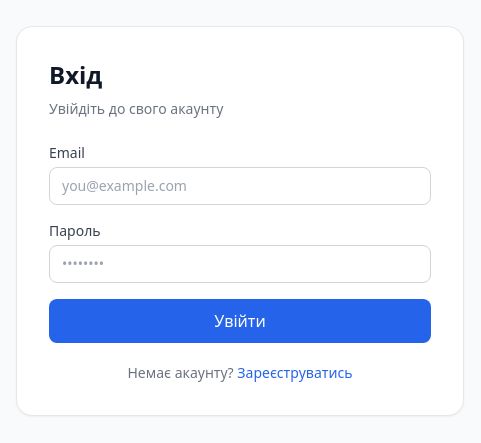
Test: LoginPage › shows error for short password
In the field with placeholder "you@example.com": coordinates (240, 186) [49,167,431,205], type "user@test.com"
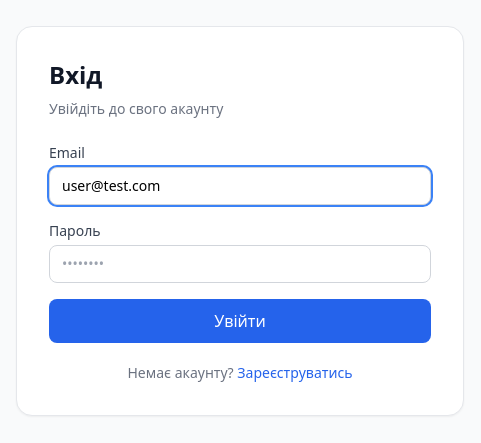
In the password field with placeholder "••••••••": coordinates (240, 264) [49,245,431,283], type "123"
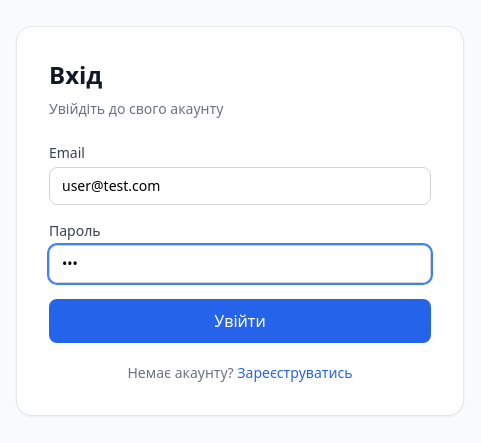
Click the button "Увійти": coordinates (240, 321) [49,299,431,343]
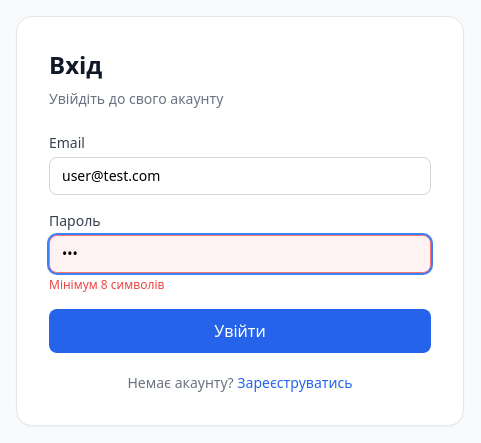
Expected: the text "Мінімум 8 символів" is shown, [49,276,164,293]
